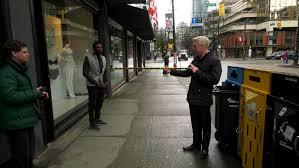Good: (82, 36, 222, 168), (1, 40, 110, 168)
